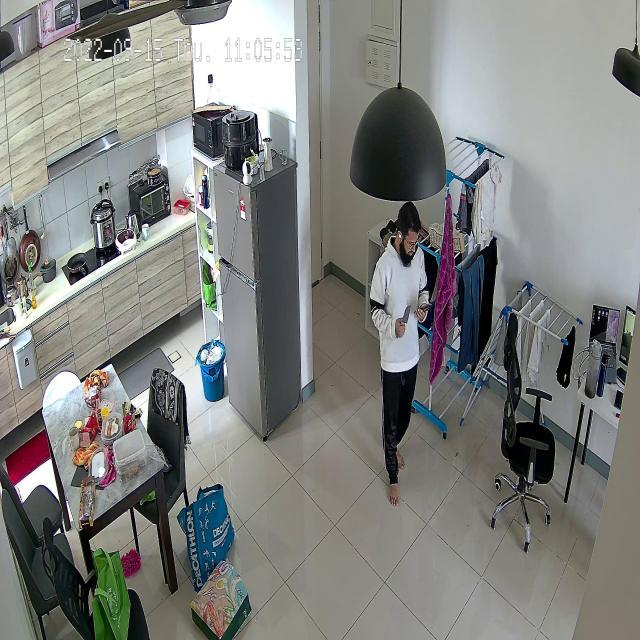Knife: (395, 303, 418, 341)
